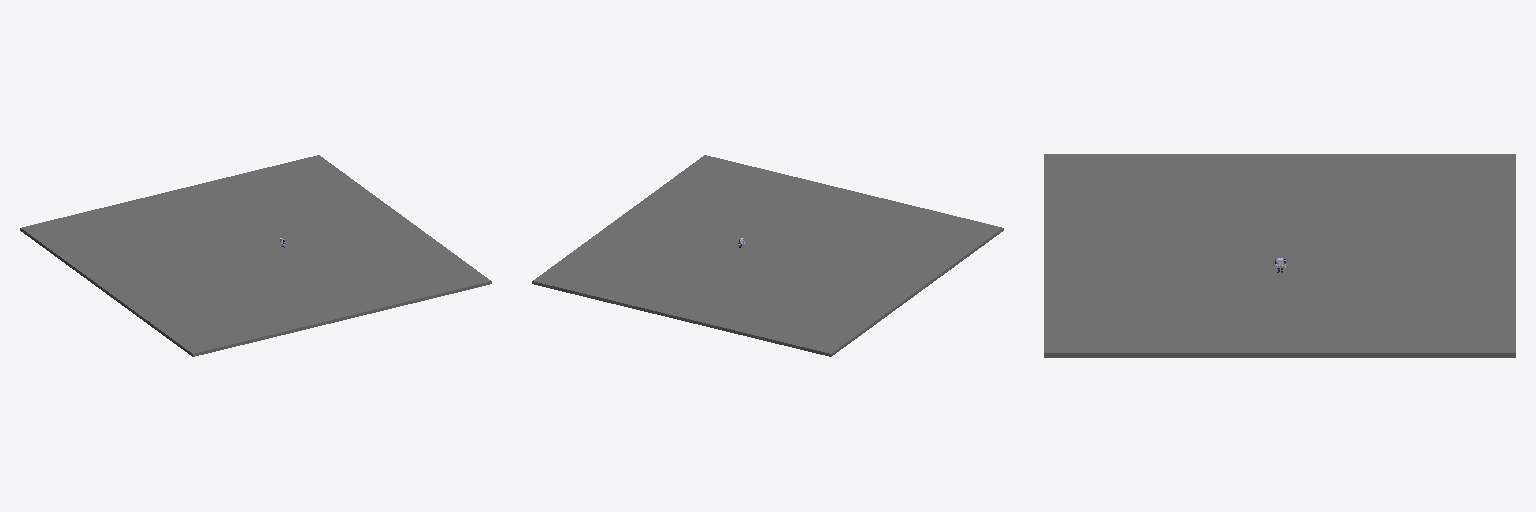
--- What the picture shows (computed from the rendered views, not written in the file) ---
Views: 3 orthographic renders of the robot side by side, from view 1: azimuth 30°, elevation 25°; view 2: azimuth 150°, elevation 25°; view 3: azimuth 270°, elevation 25°.
Robot: body_urdf_files — 17 links, 16 joints (14 revolute, 1 prismatic, 1 fixed); root link world; default pose: every joint at zero.
Visible links, largest first — view 1: ground_plate; view 2: ground_plate; view 3: ground_plate.
Link boxes in pixels (box(x1,y1,x2,y2)): ground_plate: box(20, 155, 491, 356); ground_plate: box(532, 155, 1003, 356); ground_plate: box(1044, 154, 1515, 357).
Bounding box of the posed robot: 10 × 10 × 0.4072 m (x, y, z).
Meshes: 15 distinct files referenced, 15 mesh visuals loaded (15 binary STL).

robot.urdf — body_urdf_files:
<?xml version="1.0" encoding="utf-8"?>
<!-- This URDF was automatically created by SolidWorks to URDF Exporter! Originally created by Stephen Brawner ([email redacted]) 
     Commit Version: 1.6.0-4-g7f85cfe  Build Version: 1.6.7995.38578
     For more information, please see http://wiki.ros.org/sw_urdf_exporter -->
<robot
  name="body_urdf_files">
  
  <link name="world"/>

<!-- Fixed joint connecting base_link to world -->
<joint name="base_world" type="prismatic">
  <parent link="world"/>
  <child link="base_link"/>
  <origin xyz="1.0 0.0 0.2" rpy="0 0 0"/>
  <axis xyz="1 1 1"/> <!-- Defines the movement direction (x-axis in this case) -->
  <limit lower="-1.0" upper="2.0" effort="100.0" velocity="0.5"/> <!-- Limits -->
</joint>


<link name="ground_plate">
        <visual>
            <geometry>
                <box size="10 10 0.1"/> <!-- Size of the ground plate -->
            </geometry>
            <material name="grey">
                <color rgba="0.5 0.5 0.5 0.0"/> <!-- Color of the ground plate -->
            </material>
        </visual>
        <collision>
            <geometry>
                <box size="10 10 0.0"/> <!-- Collision geometry -->
            </geometry>
        </collision>
    </link>

<!-- Fixed joint connecting ground_plate to world -->
    <joint name="fixed_ground" type="fixed">
        <parent link="world"/>
        <child link="ground_plate"/>
        <origin xyz="0.0 0.0 0.0" rpy="0 0 0"/> <!-- Position of the ground plate -->
    </joint>


  <link
    name="base_link">
    <inertial>
      <origin
        xyz="-0.11271 0.008711 0.082756"
        rpy="0 0 0" />
      <mass
        value="0.42184" />
      <inertia
        ixx="0.00054477"
        ixy="1.2005E-12"
        ixz="5.5825E-07"
        iyy="0.00040696"
        iyz="-3.7046E-08"
        izz="0.00034189" />
    </inertial>
    <visual>
      <origin
        xyz="0 0 0"
        rpy="0 0 0" />
      <geometry>
        <mesh
          filename="package://body_urdf_files/meshes/base_link.STL" />
      </geometry>
      <material
        name="">
        <color
          rgba="0.79216 0.81961 0.93333 1" />
      </material>
    </visual>
    <collision>
      <origin
        xyz="0 0 0"
        rpy="0 0 0" />
      <geometry>
        <mesh
          filename="package://body_urdf_files/meshes/base_link_collision.STL" />
      </geometry>
    </collision>
  </link>
  <link
    name="link_right_leg_1">
    <inertial>
      <origin
        xyz="0.00063243 0.0010516 -0.015001"
        rpy="0 0 0" />
      <mass
        value="0.045094" />
      <inertia
        ixx="6.95E-06"
        ixy="6.6322E-07"
        ixz="-1.7314E-14"
        iyy="1.0766E-05"
        iyz="-6.5247E-13"
        izz="1.417E-05" />
    </inertial>
    <visual>
      <origin
        xyz="0 0 0"
        rpy="0 0 0" />
      <geometry>
        <mesh
          filename="package://body_urdf_files/meshes/link_right_leg_1.STL" />
      </geometry>
      <material
        name="">
        <color
          rgba="0.79216 0.81961 0.93333 1" />
      </material>
    </visual>
    <collision>
      <origin
        xyz="0 0 0"
        rpy="0 0 0" />
      <geometry>
        <mesh
          filename="package://body_urdf_files/meshes/link_right_leg_1_collision.STL" />
      </geometry>
    </collision>
  </link>
  <joint
    name="joint_right_leg_1"
    type="revolute">
    <origin
      xyz="-0.1037 -0.021946 0.012166"
      rpy="0 0 3.1416" />
    <parent
      link="base_link" />
    <child
      link="link_right_leg_1" />
    <axis
      xyz="0 0 -1" />
    <limit
      lower="-1.57"
      upper="1.57"
      effort="200"
      velocity="3" />
  </joint>
  <link
    name="link_right_leg_2">
    <inertial>
      <origin
        xyz="-0.0179411667908212 -0.0191465626137488 -0.0347537052405199"
        rpy="0 0 0" />
      <mass
        value="0.0235211183496437" />
      <inertia
        ixx="1.57759234089372E-05"
        ixy="6.36270538890195E-07"
        ixz="-4.58679749286696E-06"
        iyy="1.82616481047403E-05"
        iyz="1.10583812995229E-06"
        izz="2.8905282600421E-06" />
    </inertial>
    <visual>
      <origin
        xyz="0 0 0"
        rpy="0 0 0" />
      <geometry>
        <mesh
          filename="package://body_urdf_files/meshes/link_right_leg_2.STL" />
      </geometry>
      <material
        name="">
        <color
          rgba="0.792156862745098 0.819607843137255 0.933333333333333 1" />
      </material>
    </visual>
    <collision>
      <origin
        xyz="0 0 0"
        rpy="0 0 0" />
      <geometry>
        <mesh
          filename="package://body_urdf_files/meshes/link_right_leg_2_collision.STL" />
      </geometry>
    </collision>
  </link>
  <joint
    name="joint_right_leg_2"
    type="revolute">
    <origin
      xyz="0.016668 0.025401 -0.01725"
      rpy="0 0 0" />
    <parent
      link="link_right_leg_1" />
    <child
      link="link_right_leg_2" />
    <axis
      xyz="0.23438 0.97215 0" />
    <limit
      lower="-1.57"
      upper="1.57"
      effort="200"
      velocity="3" />
  </joint>
  <link
    name="link_right_leg_3">
    <inertial>
      <origin
        xyz="-0.0201854124676288 -0.0252249251338612 -0.0401938897572681"
        rpy="0 0 0" />
      <mass
        value="0.0885710277412263" />
      <inertia
        ixx="3.60043673271805E-05"
        ixy="-5.74462834908742E-07"
        ixz="-7.42124531609947E-06"
        iyy="3.37601077925232E-05"
        iyz="1.78919945034082E-06"
        izz="1.63682608050573E-05" />
    </inertial>
    <visual>
      <origin
        xyz="0 0 0"
        rpy="0 0 0" />
      <geometry>
        <mesh
          filename="package://body_urdf_files/meshes/link_right_leg_3.STL" />
      </geometry>
      <material
        name="">
        <color
          rgba="0.250980392156863 0.250980392156863 0.250980392156863 1" />
      </material>
    </visual>
    <collision>
      <origin
        xyz="0 0 0"
        rpy="0 0 0" />
      <geometry>
        <mesh
          filename="package://body_urdf_files/meshes/link_right_leg_3_collision.STL" />
      </geometry>
    </collision>
  </link>
  <joint
    name="joint_right_leg_3"
    type="revolute">
    <origin
      xyz="-0.024254 0.0058474 -0.07164"
      rpy="0 0 0" />
    <parent
      link="link_right_leg_2" />
    <child
      link="link_right_leg_3" />
    <axis
      xyz="0.23438 0.97215 0" />
    <limit
      lower="-1.57"
      upper="1.57"
      effort="200"
      velocity="3" />
  </joint>
  <link
    name="link_right_leg_4">
    <inertial>
      <origin
        xyz="0.015863 -0.018727 0.021827"
        rpy="0 0 0" />
      <mass
        value="0.043507" />
      <inertia
        ixx="1.92E-05"
        ixy="1.3179E-06"
        ixz="-2.293E-06"
        iyy="2.0588E-05"
        iyz="1.9775E-06"
        izz="3.3366E-05" />
    </inertial>
    <visual>
      <origin
        xyz="0 0 0"
        rpy="0 0 0" />
      <geometry>
        <mesh
          filename="package://body_urdf_files/meshes/link_right_leg_4.STL" />
      </geometry>
      <material
        name="">
        <color
          rgba="0.79216 0.81961 0.93333 1" />
      </material>
    </visual>
    <collision>
      <origin
        xyz="0 0 0"
        rpy="0 0 0" />
      <geometry>
        <mesh
          filename="package://body_urdf_files/meshes/link_right_leg_4_collision.STL" />
      </geometry>
    </collision>
  </link>
  <joint
    name="joint_right_leg_4"
    type="revolute">
    <origin
      xyz="-0.024947 0.015272 -0.081588"
      rpy="3.1416 0 3.1416" />
    <parent
      link="link_right_leg_3" />
    <child
      link="link_right_leg_4" />
    <axis
      xyz="-0.23438 0.97215 0" />
    <limit
      lower="-1.57"
      upper="1.57"
      effort="200"
      velocity="3" />
  </joint>
  <link
    name="link_left_leg_1">
    <inertial>
      <origin
        xyz="0.000289531083426817 -0.00119245301812246 -0.0150006224241497"
        rpy="0 0 0" />
      <mass
        value="0.045093545635916" />
      <inertia
        ixx="6.91232751465115E-06"
        ixy="5.42705206394702E-07"
        ixz="-2.03242021535869E-13"
        iyy="1.0803797279876E-05"
        iyz="-6.35887197655272E-13"
        izz="1.41697361849742E-05" />
    </inertial>
    <visual>
      <origin
        xyz="0 0 0"
        rpy="0 0 0" />
      <geometry>
        <mesh
          filename="package://body_urdf_files/meshes/link_left_leg_1.STL" />
      </geometry>
      <material
        name="">
        <color
          rgba="0.792156862745098 0.819607843137255 0.933333333333333 1" />
      </material>
    </visual>
    <collision>
      <origin
        xyz="0 0 0"
        rpy="0 0 0" />
      <geometry>
        <mesh
          filename="package://body_urdf_files/meshes/link_left_leg_1_collision.STL" />
      </geometry>
    </collision>
  </link>
  <joint
    name="joint_left_leg_1"
    type="revolute">
    <origin
      xyz="-0.1037 0.039488 0.012166"
      rpy="0 0 3.1416" />
    <parent
      link="base_link" />
    <child
      link="link_left_leg_1" />
    <axis
      xyz="0 0 -1" />
    <limit
      lower="-1.57"
      upper="1.57"
      effort="200"
      velocity="3" />
  </joint>
  <link
    name="link_left_leg_2">
    <inertial>
      <origin
        xyz="-0.019188 0.024151 -0.030739"
        rpy="0 0 0" />
      <mass
        value="0.023521" />
      <inertia
        ixx="1.2791E-05"
        ixy="3.7565E-07"
        ixz="-7.0887E-06"
        iyy="1.839E-05"
        iyz="4.7346E-07"
        izz="5.7474E-06" />
    </inertial>
    <visual>
      <origin
        xyz="0 0 0"
        rpy="0 0 0" />
      <geometry>
        <mesh
          filename="package://body_urdf_files/meshes/link_left_leg_2.STL" />
      </geometry>
      <material
        name="">
        <color
          rgba="0.79216 0.81961 0.93333 1" />
      </material>
    </visual>
    <collision>
      <origin
        xyz="0 0 0"
        rpy="0 0 0" />
      <geometry>
        <mesh
          filename="package://body_urdf_files/meshes/link_left_leg_2_collision.STL" />
      </geometry>
    </collision>
  </link>
  <joint
    name="joint_left_leg_2"
    type="revolute">
    <origin
      xyz="0.0083212 -0.02922 -0.01725"
      rpy="0 0 0" />
    <parent
      link="link_left_leg_1" />
    <child
      link="link_left_leg_2" />
    <axis
      xyz="0.066643 0.99778 0" />
    <limit
      lower="-1.57"
      upper="1.57"
      effort="200"
      velocity="3" />
  </joint>
  <link
    name="link_left_leg_3">
    <inertial>
      <origin
        xyz="0.00261355430144429 0.0291439049418027 -0.0424629084715156"
        rpy="0 0 0" />
      <mass
        value="0.0885710279106685" />
      <inertia
        ixx="3.8718083970177E-05"
        ixy="-3.40398542135061E-07"
        ixz="3.90589175561294E-07"
        iyy="3.36443452169483E-05"
        iyz="-2.60878387824978E-08"
        izz="1.3770307002436E-05" />
    </inertial>
    <visual>
      <origin
        xyz="0 0 0"
        rpy="0 0 0" />
      <geometry>
        <mesh
          filename="package://body_urdf_files/meshes/link_left_leg_3.STL" />
      </geometry>
      <material
        name="">
        <color
          rgba="0.250980392156863 0.250980392156863 0.250980392156863 1" />
      </material>
    </visual>
    <collision>
      <origin
        xyz="0 0 0"
        rpy="0 0 0" />
      <geometry>
        <mesh
          filename="package://body_urdf_files/meshes/link_left_leg_3_collision.STL" />
      </geometry>
    </collision>
  </link>
  <joint
    name="joint_left_leg_3"
    type="revolute">
    <origin
      xyz="-0.040987 0.0027375 -0.063776"
      rpy="0 0 0" />
    <parent
      link="link_left_leg_2" />
    <child
      link="link_left_leg_3" />
    <axis
      xyz="0.066643 0.99778 0" />
    <limit
      lower="-1.57"
      upper="1.57"
      effort="200"
      velocity="3" />
  </joint>
  <link
    name="link_left_leg_4">
    <inertial>
      <origin
        xyz="-0.0122739796083057 -0.0182225414807927 -0.021826744971205"
        rpy="0 0 0" />
      <mass
        value="0.0870145940816905" />
      <inertia
        ixx="3.9754670635112E-05"
        ixy="4.48152690031577E-09"
        ixz="-3.52336993284012E-06"
        iyy="3.98214690897593E-05"
        iyz="2.35329351813237E-07"
        izz="6.67325017223069E-05" />
    </inertial>
    <visual>
      <origin
        xyz="0 0 0"
        rpy="0 0 0" />
      <geometry>
        <mesh
          filename="package://body_urdf_files/meshes/link_left_leg_4.STL" />
      </geometry>
      <material
        name="">
        <color
          rgba="0.792156862745098 0.819607843137255 0.933333333333333 1" />
      </material>
    </visual>
    <collision>
      <origin
        xyz="0 0 0"
        rpy="0 0 0" />
      <geometry>
        <mesh
          filename="package://body_urdf_files/meshes/link_left_leg_4_collision.STL" />
      </geometry>
    </collision>
  </link>
  <joint
    name="joint_left_leg_4"
    type="revolute">
    <origin
      xyz="0.0013479 -9.0028E-05 -0.086194"
      rpy="0 0 0" />
    <parent
      link="link_left_leg_3" />
    <child
      link="link_left_leg_4" />
    <axis
      xyz="-0.066643 -0.99778 0" />
    <limit
      lower="-1.57"
      upper="1.57"
      effort="200"
      velocity="3" />
  </joint>
  <link
    name="link_right_arm_1">
    <inertial>
      <origin
        xyz="0.00043229 0.013421 6.0742E-05"
        rpy="0 0 0" />
      <mass
        value="0.015438" />
      <inertia
        ixx="3.3686E-06"
        ixy="-9.3955E-08"
        ixz="-9.7163E-07"
        iyy="8.7062E-06"
        iyz="-1.3202E-08"
        izz="1.0147E-05" />
    </inertial>
    <visual>
      <origin
        xyz="0 0 0"
        rpy="0 0 0" />
      <geometry>
        <mesh
          filename="package://body_urdf_files/meshes/link_right_arm_1.STL" />
      </geometry>
      <material
        name="">
        <color
          rgba="0.79216 0.81961 0.93333 1" />
      </material>
    </visual>
    <collision>
      <origin
        xyz="0 0 0"
        rpy="0 0 0" />
      <geometry>
        <mesh
          filename="package://body_urdf_files/meshes/link_right_arm_1_collision.STL" />
      </geometry>
    </collision>
  </link>
  <joint
    name="joint_right_arm_1"
    type="revolute">
    <origin
      xyz="-0.11395 -0.064629 0.11681"
      rpy="0 0 3.1416" />
    <parent
      link="base_link" />
    <child
      link="link_right_arm_1" />
    <axis
      xyz="0 1 0" />
    <limit
      lower="-1.57"
      upper="1.57"
      effort="200"
      velocity="3" />
  </joint>
  <link
    name="link_right_arm_2">
    <inertial>
      <origin
        xyz="0.0339602330058164 -0.00140695201636803 -0.0387802160392867"
        rpy="0 0 0" />
      <mass
        value="0.0843265047221693" />
      <inertia
        ixx="3.25873098555874E-05"
        ixy="1.14115097543406E-07"
        ixz="2.67119444403901E-06"
        iyy="3.8257358357345E-05"
        iyz="-8.12127143019655E-07"
        izz="1.39524623316252E-05" />
    </inertial>
    <visual>
      <origin
        xyz="0 0 0"
        rpy="0 0 0" />
      <geometry>
        <mesh
          filename="package://body_urdf_files/meshes/link_right_arm_2.STL" />
      </geometry>
      <material
        name="">
        <color
          rgba="0.250980392156863 0.250980392156863 0.250980392156863 1" />
      </material>
    </visual>
    <collision>
      <origin
        xyz="0 0 0"
        rpy="0 0 0" />
      <geometry>
        <mesh
          filename="package://body_urdf_files/meshes/link_right_arm_2_collision.STL" />
      </geometry>
    </collision>
  </link>
  <joint
    name="joint_right_arm_2"
    type="revolute">
    <origin
      xyz="-0.023568 0.0275 -0.0033117"
      rpy="0 0 0" />
    <parent
      link="link_right_arm_1" />
    <child
      link="link_right_arm_2" />
    <axis
      xyz="0.99027 0 0.13915" />
    <limit
      lower="-1.57"
      upper="1.57"
      effort="200"
      velocity="3" />
  </joint>
  <link
    name="link_right_arm_3">
    <inertial>
      <origin
        xyz="0.024606 -0.0054508 -0.039884"
        rpy="0 0 0" />
      <mass
        value="0.034964" />
      <inertia
        ixx="2.2521E-05"
        ixy="5.7455E-07"
        ixz="4.2654E-06"
        iyy="3.1751E-05"
        iyz="-1.5469E-06"
        izz="1.7492E-05" />
    </inertial>
    <visual>
      <origin
        xyz="0 0 0"
        rpy="0 0 0" />
      <geometry>
        <mesh
          filename="package://body_urdf_files/meshes/link_right_arm_3.STL" />
      </geometry>
      <material
        name="">
        <color
          rgba="0.79216 0.81961 0.93333 1" />
      </material>
    </visual>
    <collision>
      <origin
        xyz="0 0 0"
        rpy="0 0 0" />
      <geometry>
        <mesh
          filename="package://body_urdf_files/meshes/link_right_arm_3_collision.STL" />
      </geometry>
    </collision>
  </link>
  <joint
    name="joint_right_arm_3"
    type="revolute">
    <origin
      xyz="0.011988 -0.0028598 -0.085319"
      rpy="0 0 0" />
    <parent
      link="link_right_arm_2" />
    <child
      link="link_right_arm_3" />
    <axis
      xyz="0.99027 0 0.13915" />
    <limit
      lower="-1.57"
      upper="1.57"
      effort="200"
      velocity="3" />
  </joint>
  <link
    name="link_left_arm_1">
    <inertial>
      <origin
        xyz="0.00042348927780031 -0.0134210554645642 -0.000105920018624112"
        rpy="0 0 0" />
      <mass
        value="0.0154375276983831" />
      <inertia
        ixx="3.64724793651552E-06"
        ixy="9.20428943464276E-08"
        ixz="1.65980758563093E-06"
        iyy="8.70624786729584E-06"
        iyz="-2.30210907204673E-08"
        izz="9.868349574434E-06" />
    </inertial>
    <visual>
      <origin
        xyz="0 0 0"
        rpy="0 0 0" />
      <geometry>
        <mesh
          filename="package://body_urdf_files/meshes/link_left_arm_1.STL" />
      </geometry>
      <material
        name="">
        <color
          rgba="0.792156862745098 0.819607843137255 0.933333333333333 1" />
      </material>
    </visual>
    <collision>
      <origin
        xyz="0 0 0"
        rpy="0 0 0" />
      <geometry>
        <mesh
          filename="package://body_urdf_files/meshes/link_left_arm_1_collision.STL" />
      </geometry>
    </collision>
  </link>
  <joint
    name="joint_left_arm_1"
    type="revolute">
    <origin
      xyz="-0.11395 0.082171 0.11681"
      rpy="0 0 3.1416" />
    <parent
      link="base_link" />
    <child
      link="link_left_arm_1" />
    <axis
      xyz="0 -1 0" />
    <limit
      lower="-1.57"
      upper="1.57"
      effort="200"
      velocity="3" />
  </joint>
  <link
    name="link_left_arm_2">
    <inertial>
      <origin
        xyz="0.0169216197295038 -0.000800020748780966 -0.0487052443915875"
        rpy="0 0 0" />
      <mass
        value="0.0843265053503444" />
      <inertia
        ixx="3.18202864891716E-05"
        ixy="-1.14665652317147E-07"
        ixz="-4.5673950934939E-06"
        iyy="3.82755476300154E-05"
        iyz="-4.58456093141091E-07"
        izz="1.47012967514871E-05" />
    </inertial>
    <visual>
      <origin
        xyz="0 0 0"
        rpy="0 0 0" />
      <geometry>
        <mesh
          filename="package://body_urdf_files/meshes/link_left_arm_2.STL" />
      </geometry>
      <material
        name="">
        <color
          rgba="0.250980392156863 0.250980392156863 0.250980392156863 1" />
      </material>
    </visual>
    <collision>
      <origin
        xyz="0 0 0"
        rpy="0 0 0" />
      <geometry>
        <mesh
          filename="package://body_urdf_files/meshes/link_left_arm_2_collision.STL" />
      </geometry>
    </collision>
  </link>
  <joint
    name="joint_left_arm_2"
    type="revolute">
    <origin
      xyz="-0.023089 -0.0275 0.0057748"
      rpy="0 0 0" />
    <parent
      link="link_left_arm_1" />
    <child
      link="link_left_arm_2" />
    <axis
      xyz="0.97012 0 -0.24264" />
    <limit
      lower="-1.57"
      upper="1.57"
      effort="200"
      velocity="3" />
  </joint>
  <link
    name="link_left_arm_3">
    <inertial>
      <origin
        xyz="0.0077583625375509 0.000745387915609325 -0.0465328644527464"
        rpy="0 0 0" />
      <mass
        value="0.0349624152925252" />
      <inertia
        ixx="2.47787143663493E-05"
        ixy="-2.17214139362107E-09"
        ixz="1.29123950438143E-06"
        iyy="3.19173997790936E-05"
        iyz="-8.7165428009656E-08"
        izz="1.50664366292392E-05" />
    </inertial>
    <visual>
      <origin
        xyz="0 0 0"
        rpy="0 0 0" />
      <geometry>
        <mesh
          filename="package://body_urdf_files/meshes/link_left_arm_3.STL" />
      </geometry>
      <material
        name="">
        <color
          rgba="0.792156862745098 0.819607843137255 0.933333333333333 1" />
      </material>
    </visual>
    <collision>
      <origin
        xyz="0 0 0"
        rpy="0 0 0" />
      <geometry>
        <mesh
          filename="package://body_urdf_files/meshes/link_left_arm_3_collision.STL" />
      </geometry>
    </collision>
  </link>
  <joint
    name="joint_left_arm_3"
    type="revolute">
    <origin
      xyz="-0.020913 -0.0016473 -0.083613"
      rpy="0 0 0" />
    <parent
      link="link_left_arm_2" />
    <child
      link="link_left_arm_3" />
    <axis
      xyz="0.97012 0 -0.24264" />
    <limit
      lower="-1.57"
      upper="1.57"
      effort="200"
      velocity="3" />
  </joint>
  
    <transmission name="link_right_leg_1">
	<type>transmission_interface/SimpleTransmission</type>
	<joint name="joint_right_leg_1">
		<hardwareInterface>hardware_interface/PositionJointInterface</hardwareInterface>
	</joint>
	<actuator name="motor_right_leg_1">
		<hardwareInterface>hardware_interface/PositionJointInterface</hardwareInterface>
		<mechanicalReduction>1</mechanicalReduction>
	</actuator>
  </transmission>
  
      <transmission name="link_right_leg_2">
	<type>transmission_interface/SimpleTransmission</type>
	<joint name="joint_right_leg_2">
		<hardwareInterface>hardware_interface/PositionJointInterface</hardwareInterface>
	</joint>
	<actuator name="motor_right_leg_2">
		<hardwareInterface>hardware_interface/PositionJointInterface</hardwareInterface>
		<mechanicalReduction>1</mechanicalReduction>
	</actuator>
  </transmission>
  
      <transmission name="link_right_leg_3">
	<type>transmission_interface/SimpleTransmission</type>
	<joint name="joint_right_leg_3">
		<hardwareInterface>hardware_interface/PositionJointInterface</hardwareInterface>
	</joint>
	<actuator name="motor_right_leg_3">
		<hardwareInterface>hardware_interface/PositionJointInterface</hardwareInterface>
		<mechanicalReduction>1</mechanicalReduction>
	</actuator>
  </transmission>
  
      <transmission name="link_right_leg_4">
	<type>transmission_interface/SimpleTransmission</type>
	<joint name="joint_right_leg_4">
		<hardwareInterface>hardware_interface/PositionJointInterface</hardwareInterface>
	</joint>
	<actuator name="motor_right_leg_4">
		<hardwareInterface>hardware_interface/PositionJointInterface</hardwareInterface>
		<mechanicalReduction>1</mechanicalReduction>
	</actuator>
  </transmission>
  
      <transmission name="link_left_leg_1">
	<type>transmission_interface/SimpleTransmission</type>
	<joint name="joint_left_leg_1">
		<hardwareInterface>hardware_interface/PositionJointInterface</hardwareInterface>
	</joint>
	<actuator name="motor_left_leg_1">
		<hardwareInterface>hardware_interface/PositionJointInterface</hardwareInterface>
		<mechanicalReduction>1</mechanicalReduction>
	</actuator>
  </transmission>
  
        <transmission name="link_left_leg_2">
	<type>transmission_interface/SimpleTransmission</type>
	<joint name="joint_left_leg_2">
		<hardwareInterface>hardware_interface/PositionJointInterface</hardwareInterface>
	</joint>
	<actuator name="motor_left_leg_2">
		<hardwareInterface>hardware_interface/PositionJointInterface</hardwareInterface>
		<mechanicalReduction>1</mechanicalReduction>
	</actuator>
  </transmission>
  
        <transmission name="link_left_leg_3">
	<type>transmission_interface/SimpleTransmission</type>
	<joint name="joint_left_leg_3">
		<hardwareInterface>hardware_interface/PositionJointInterface</hardwareInterface>
	</joint>
	<actuator name="motor_left_leg_3">
		<hardwareInterface>hardware_interface/PositionJointInterface</hardwareInterface>
		<mechanicalReduction>1</mechanicalReduction>
	</actuator>
  </transmission>
  
          <transmission name="link_left_leg_4">
	<type>transmission_interface/SimpleTransmission</type>
	<joint name="joint_left_leg_4">
		<hardwareInterface>hardware_interface/PositionJointInterface</hardwareInterface>
	</joint>
	<actuator name="motor_left_leg_4">
		<hardwareInterface>hardware_interface/PositionJointInterface</hardwareInterface>
		<mechanicalReduction>1</mechanicalReduction>
	</actuator>
  </transmission>
  
          <transmission name="link_right_arm_1">
	<type>transmission_interface/SimpleTransmission</type>
	<joint name="joint_right_arm_1">
		<hardwareInterface>hardware_interface/PositionJointInterface</hardwareInterface>
	</joint>
	<actuator name="motor_right_arm_1">
		<hardwareInterface>hardware_interface/PositionJointInterface</hardwareInterface>
		<mechanicalReduction>1</mechanicalReduction>
	</actuator>
  </transmission>
  
            <transmission name="link_right_arm_2">
	<type>transmission_interface/SimpleTransmission</type>
	<joint name="joint_right_arm_2">
		<hardwareInterface>hardware_interface/PositionJointInterface</hardwareInterface>
	</joint>
	<actuator name="motor_right_arm_2">
		<hardwareInterface>hardware_interface/PositionJointInterface</hardwareInterface>
		<mechanicalReduction>1</mechanicalReduction>
	</actuator>
  </transmission>
  
            <transmission name="link_right_arm_3">
	<type>transmission_interface/SimpleTransmission</type>
	<joint name="joint_right_arm_3">
		<hardwareInterface>hardware_interface/PositionJointInterface</hardwareInterface>
	</joint>
	<actuator name="motor_right_arm_3">
		<hardwareInterface>hardware_interface/PositionJointInterface</hardwareInterface>
		<mechanicalReduction>1</mechanicalReduction>
	</actuator>
  </transmission>
  
            <transmission name="link_left_arm_1">
	<type>transmission_interface/SimpleTransmission</type>
	<joint name="joint_left_arm_1">
		<hardwareInterface>hardware_interface/PositionJointInterface</hardwareInterface>
	</joint>
	<actuator name="motor_left_arm_1">
		<hardwareInterface>hardware_interface/PositionJointInterface</hardwareInterface>
		<mechanicalReduction>1</mechanicalReduction>
	</actuator>
  </transmission>
  
              <transmission name="link_left_arm_2">
	<type>transmission_interface/SimpleTransmission</type>
	<joint name="joint_left_arm_2">
		<hardwareInterface>hardware_interface/PositionJointInterface</hardwareInterface>
	</joint>
	<actuator name="motor_left_arm_2">
		<hardwareInterface>hardware_interface/PositionJointInterface</hardwareInterface>
		<mechanicalReduction>1</mechanicalReduction>
	</actuator>
  </transmission>
  
              <transmission name="link_left_arm_3">
	<type>transmission_interface/SimpleTransmission</type>
	<joint name="joint_left_arm_3">
		<hardwareInterface>hardware_interface/PositionJointInterface</hardwareInterface>
	</joint>
	<actuator name="motor_left_arm_3">
		<hardwareInterface>hardware_interface/PositionJointInterface</hardwareInterface>
		<mechanicalReduction>1</mechanicalReduction>
	</actuator>
  </transmission>
  
    <gazebo>
	<plugin name="control" filename="libgazebo_ros_control.so">
		<robotNamespace>/</robotNamespace>
	</plugin>
  </gazebo>

  <gazebo reference="link_left_leg_1">
	<selfCollide>true</selfCollide>
  </gazebo>

  <gazebo reference="link_left_leg_2">
	<selfCollide>true</selfCollide>
  </gazebo>
  
    <gazebo reference="link_left_leg_3">
	<selfCollide>true</selfCollide>
  </gazebo>
  
    <gazebo reference="link_left_leg_4">
	<selfCollide>true</selfCollide>
  </gazebo>
  
    <gazebo reference="link_right_leg_1">
	<selfCollide>true</selfCollide>
  </gazebo>
  
      <gazebo reference="link_right_leg_2">
	<selfCollide>true</selfCollide>
  </gazebo>
  
      <gazebo reference="link_right_leg_3">
	<selfCollide>true</selfCollide>
  </gazebo>
  
      <gazebo reference="link_right_leg_4">
	<selfCollide>true</selfCollide>
  </gazebo>
  
      <gazebo reference="link_left_arm_1">
	<selfCollide>true</selfCollide>
  </gazebo>
  
	<gazebo reference="link_left_arm_2">
	<selfCollide>true</selfCollide>
  </gazebo>

      <gazebo reference="link_left_arm_3">
	<selfCollide>true</selfCollide>
  </gazebo> 
  
        <gazebo reference="link_right_arm_1">
	<selfCollide>true</selfCollide>
  </gazebo>  
  
     <gazebo reference="link_right_arm_2">
	<selfCollide>true</selfCollide>
  </gazebo>  
  
     <gazebo reference="link_right_arm_3">
	<selfCollide>true</selfCollide>
  </gazebo>  

</robot>
